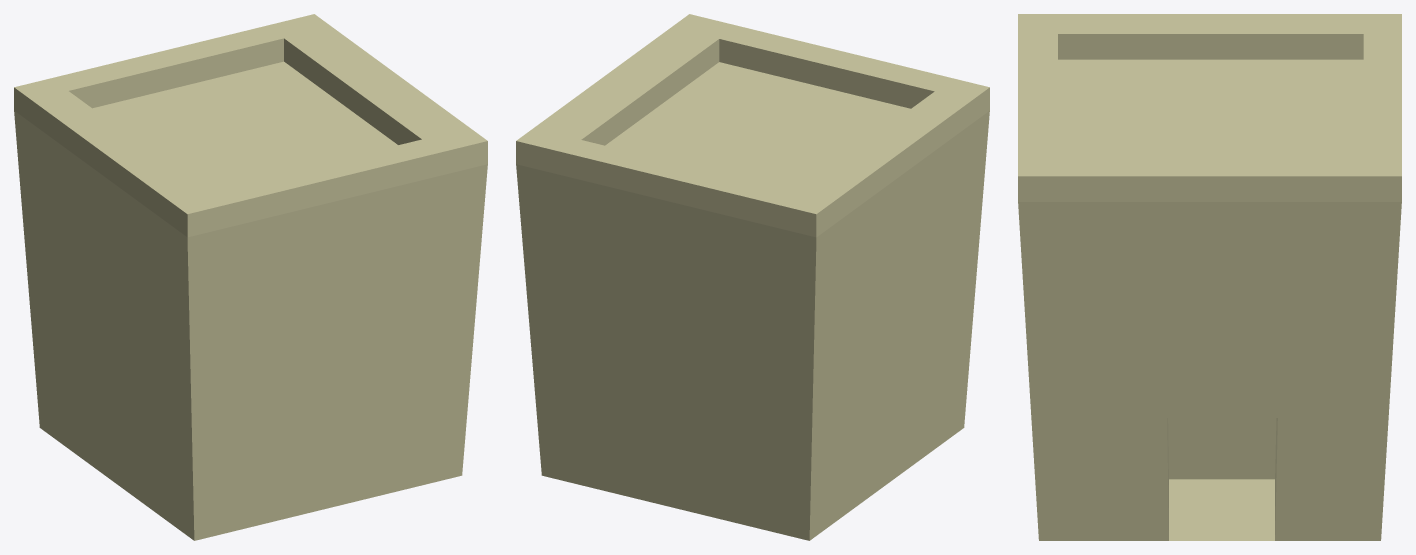
The model's file is House2.fbx.
The picture shows the model from 3 angles, left to right: view 1: azimuth 30°, elevation 25°; view 2: azimuth 150°, elevation 25°; view 3: azimuth 270°, elevation 25°; orthographic projection. The views are drawn at different scales.
Parts seen in each view (by area): view 1: Cube; view 2: Cube; view 3: Cube.
Boxes of the visible parts, x1,y1,x2,y2 form: Cube: (14,14,487,540); Cube: (516,14,989,540); Cube: (1018,14,1401,540).
Bounding box in the file's own units: 1634 × 1755 × 1634.
